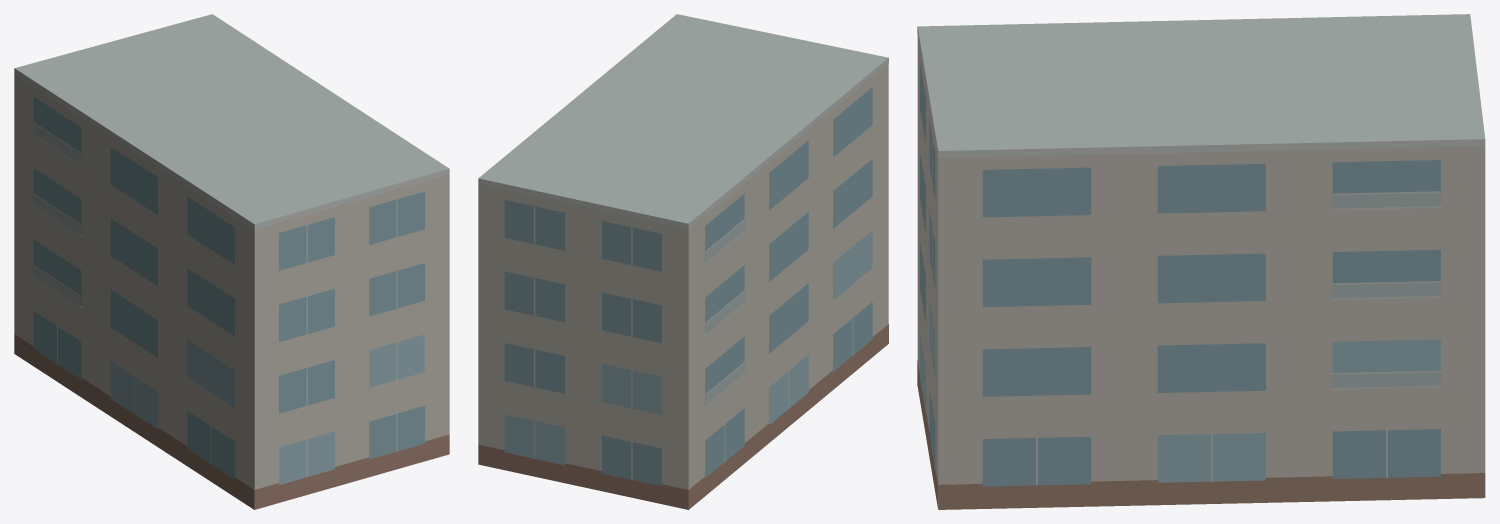
Rendered from survey-upis-32698615.glb.
3 renders of one model, left to right at view 1: azimuth 30°, elevation 25°; view 2: azimuth 150°, elevation 25°; view 3: azimuth 270°, elevation 25°, orthographic. The views are drawn at different scales.
Visible parts, largest first — view 1: survey-upis-32698615.tmp; view 2: survey-upis-32698615.tmp; view 3: survey-upis-32698615.tmp.
Boxes of the visible parts, bbox=[...] form: survey-upis-32698615.tmp: bbox=[14, 14, 449, 509]; survey-upis-32698615.tmp: bbox=[478, 14, 888, 509]; survey-upis-32698615.tmp: bbox=[917, 14, 1485, 509].
Bounding box in the file's own units: 10.16 × 12.4 × 17.79.
